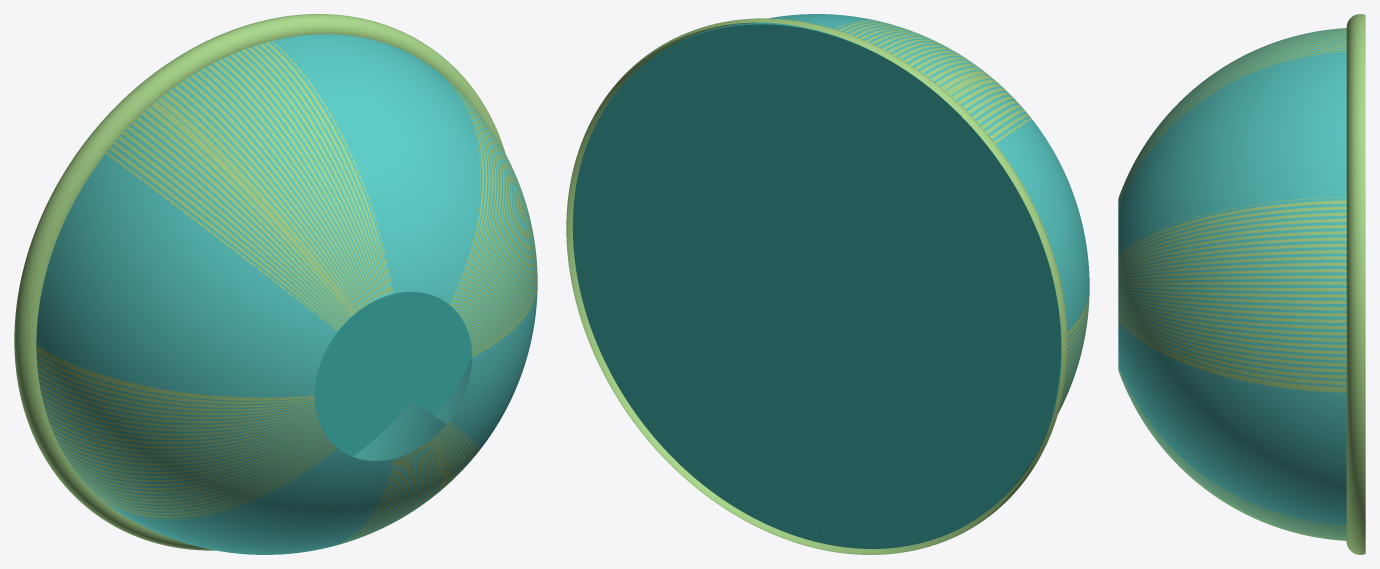
File: bios.gltf
3 views of the same model, side by side, from view 1: azimuth 30°, elevation 25°; view 2: azimuth 150°, elevation 25°; view 3: azimuth 270°, elevation 25° (orthographic). The views are drawn at different scales.
Visible parts, largest first — view 1: Surface 1, Surface 3, Surface 4, Surface 10, Part 10, Surface 2, Part 9, Surface 5, Surface 9; view 2: Part 10, Part 9, Surface 1, Surface 10, Surface 3, Surface 4; view 3: Surface 1, Surface 2, Surface 10, Surface 3, Surface 5.
Boxes of the visible parts, box(x1,y1,x2,y2) form: Surface 1: box(36, 34, 537, 554); Surface 3: box(105, 41, 393, 331); Surface 4: box(36, 345, 336, 519); Surface 10: box(14, 14, 505, 550); Part 10: box(314, 291, 472, 456); Surface 2: box(444, 77, 537, 356); Part 9: box(314, 337, 411, 456); Surface 5: box(336, 421, 480, 545); Surface 9: box(353, 401, 446, 460); Part 10: box(572, 22, 1061, 548); Part 9: box(613, 39, 1052, 540); Surface 1: box(770, 14, 1089, 413); Surface 10: box(566, 18, 1067, 554); Surface 3: box(834, 20, 1031, 143); Surface 4: box(1058, 291, 1089, 412); Surface 1: box(1118, 28, 1346, 540); Surface 2: box(1118, 196, 1346, 392); Surface 10: box(1346, 14, 1365, 554); Surface 3: box(1118, 28, 1346, 205); Surface 5: box(1118, 366, 1346, 540).
Size of the model in its own units: 3.16 by 3.16 by 1.45.
